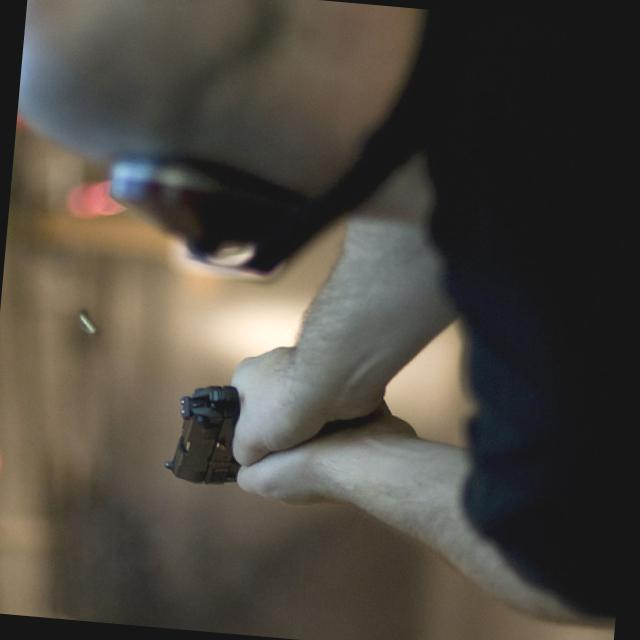handgun: (158, 386, 378, 502)
